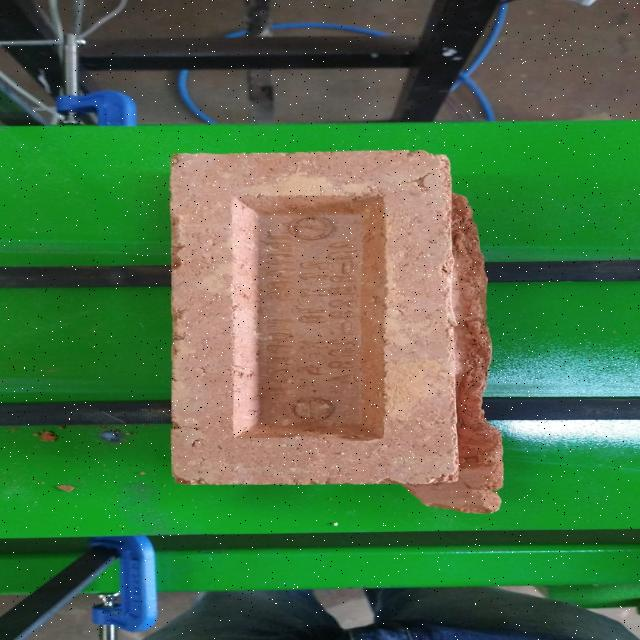bricks_ruin: (168, 151, 505, 515)
